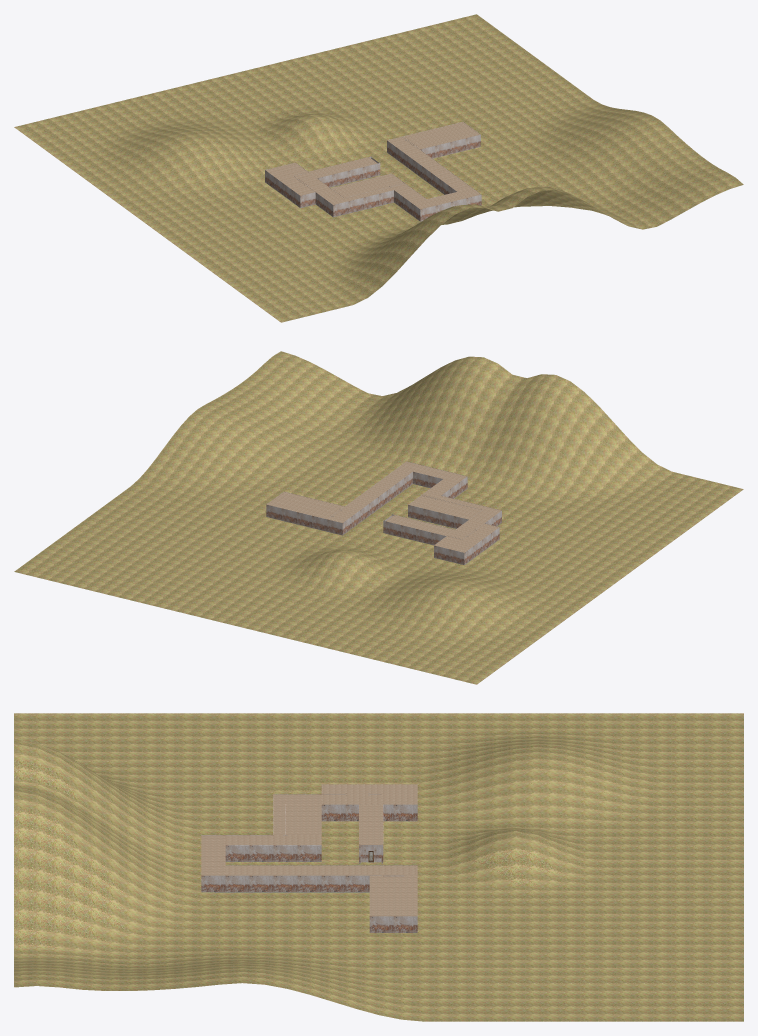
File: ExportedBlenderFBXFile.fbx
3 renders of one model, top to bottom at view 1: azimuth 30°, elevation 25°; view 2: azimuth 150°, elevation 25°; view 3: azimuth 270°, elevation 25°, orthographic. The views are drawn at different scales.
Parts seen in each view (by area): view 1: Terreno, Teto, Modulo; view 2: Terreno, Teto, Modulo; view 3: Terreno, Teto, Modulo.
Part boxes in pixels (<box>): Terreno: <box>14,14,743,322</box>; Teto: <box>265,122,480,209</box>; Modulo: <box>265,122,481,221</box>; Terreno: <box>14,351,743,684</box>; Teto: <box>267,461,501,552</box>; Modulo: <box>266,461,501,564</box>; Terreno: <box>14,713,743,1021</box>; Teto: <box>201,784,417,916</box>; Modulo: <box>201,794,417,932</box>.
Size of the model in its own units: 122 by 17.17 by 122.
